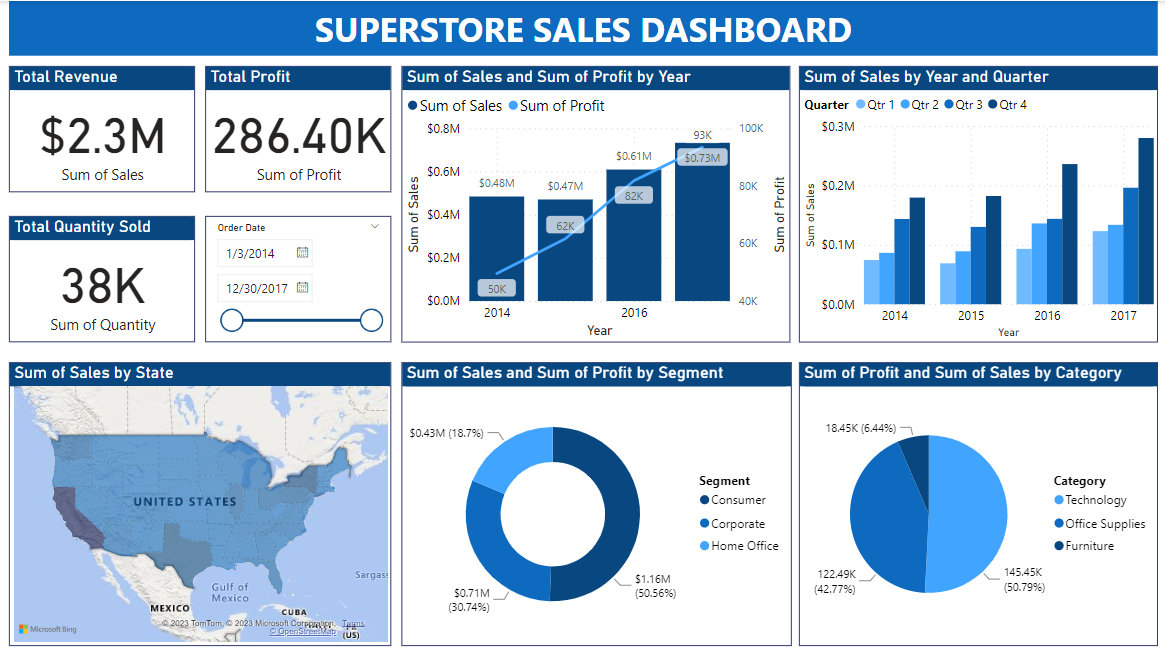

The dashboard page shown, as its layout file describes it:
{"tool":"powerbi","page":{"name":"Overall Sales","canvas":[1280,720],"ordinal":0},"visuals":[{"type":"card","title":"Total Revenue","fields":{"Values":["Sum(Orders.Sales)"]},"box":[11,71.3,204.3,138],"z":0},{"type":"textbox","box":[11,0,1260,60.3],"z":1000},{"type":"card","title":"Total Quantity Sold","fields":{"Values":["Sum(Orders.Quantity)"]},"box":[11,235.8,204.3,138.5],"z":2000},{"type":"card","title":"Total Profit","fields":{"Values":["Sum(Orders.Profit)"]},"box":[226.2,71.3,204.3,138],"z":3000},{"type":"slicer","fields":{"Values":["Orders.Order Date"]},"box":[226.2,235.8,204.3,138.5],"z":4000},{"type":"lineStackedColumnComboChart","fields":{"Category":["Orders.Order Date.Variation.Date Hierarchy.Year","Orders.Order Date.Variation.Date Hierarchy.Quarter","Orders.Order Date.Variation.Date Hierarchy.Month","Orders.Order Date.Variation.Date Hierarchy.Day"],"Y":["Sum(Orders.Sales)"],"Y2":["Sum(Orders.Profit)"]},"box":[441.5,71.3,426.4,303],"z":5000},{"type":"clusteredColumnChart","fields":{"Category":["Orders.Year"],"Series":["Orders.Quarter"],"Y":["Sum(Orders.Sales)"]},"box":[877.5,71.3,393.5,303],"z":6000},{"type":"filledMap","fields":{"Category":["Orders.State"]},"box":[11,396.2,419.5,311.2],"z":7000},{"type":"donutChart","fields":{"Category":["Orders.Segment"],"Y":["Sum(Orders.Sales)"]},"box":[441.5,396.2,427.8,311.2],"z":8000},{"type":"pieChart","fields":{"Category":["Orders.Category"],"Y":["Sum(Orders.Profit)"]},"box":[877.5,396.2,393.5,311.2],"z":9000}]}

Visuals, with their boxes in screenshot pixels (x1, y1, x2, y2), scaled from the page's 1280x720 canvas onto the 1165x652 screenshot:
"Total Revenue" card: [left=10, top=65, right=196, bottom=190]
textbox: [left=10, top=0, right=1157, bottom=55]
"Total Quantity Sold" card: [left=10, top=214, right=196, bottom=339]
"Total Profit" card: [left=206, top=65, right=392, bottom=190]
slicer - Orders.Order Date: [left=206, top=214, right=392, bottom=339]
lineStackedColumnComboChart - Orders.Order Date.Variation.Date Hierarchy.Year x Orders.Order Date.Variation.Date Hierarchy.Quarter: [left=402, top=65, right=790, bottom=339]
clusteredColumnChart - Orders.Year x Orders.Quarter: [left=799, top=65, right=1157, bottom=339]
filledMap - Orders.State: [left=10, top=359, right=392, bottom=641]
donutChart - Orders.Segment x Sum(Orders.Sales): [left=402, top=359, right=791, bottom=641]
pieChart - Orders.Category x Sum(Orders.Profit): [left=799, top=359, right=1157, bottom=641]
